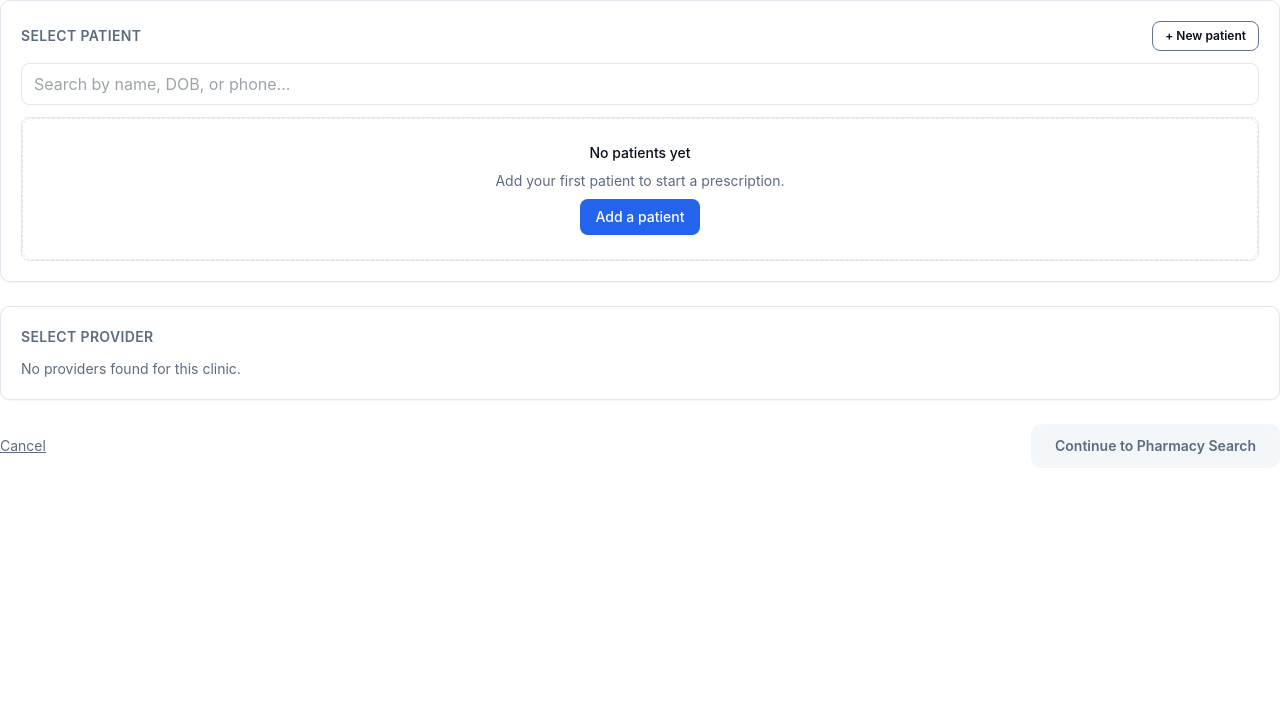
Scenario: the entry point › Select Patient passes availability through to + New patient
Click the button "+ New patient": (1206, 36) [1152,21,1259,51]
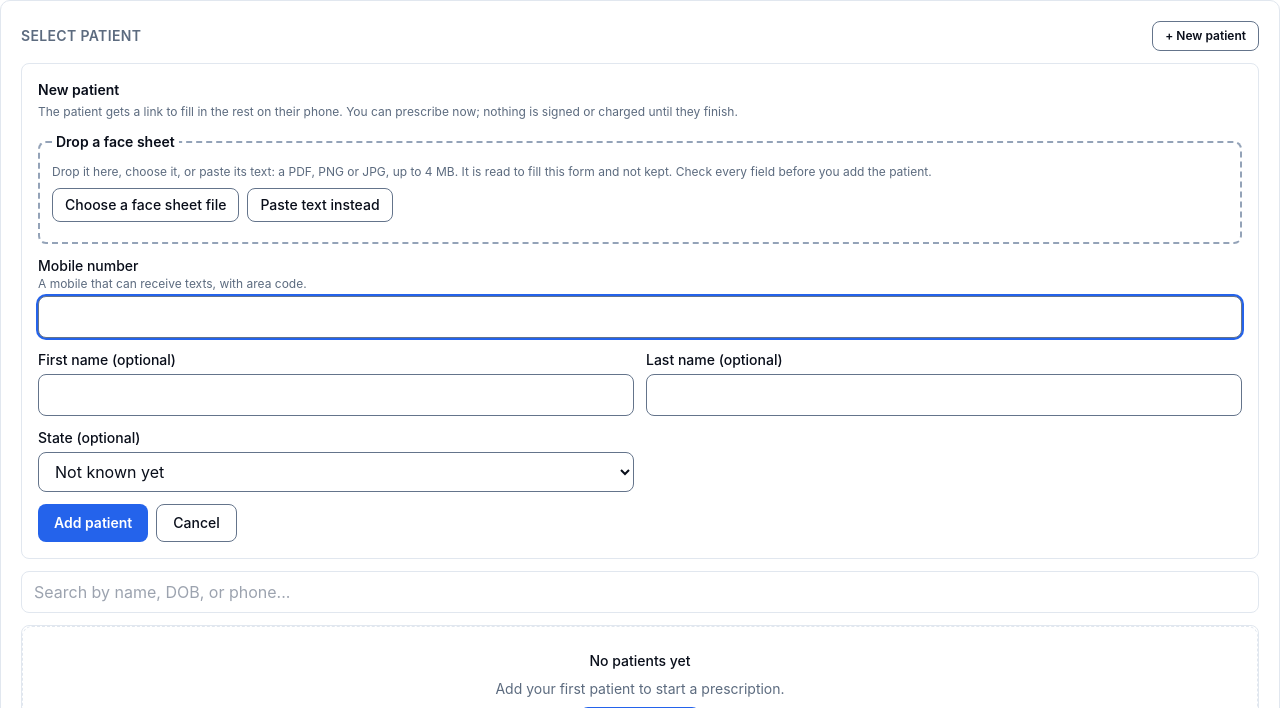
Expected: the element "Drop a face sheet" is shown, [38,132,1242,244]
